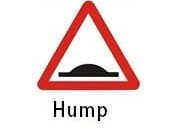Traffic signal: (37, 1, 142, 92)
